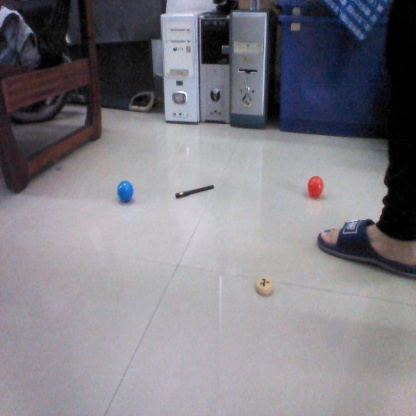ball: (113, 179, 137, 203), (303, 176, 326, 196)
chess: (255, 276, 270, 294)
pen: (172, 185, 217, 199)
